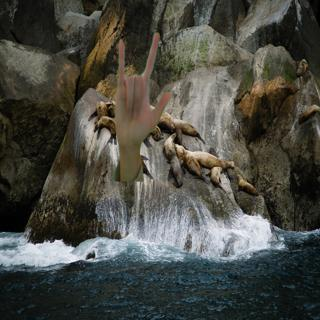ILY: (111, 29, 175, 150)
